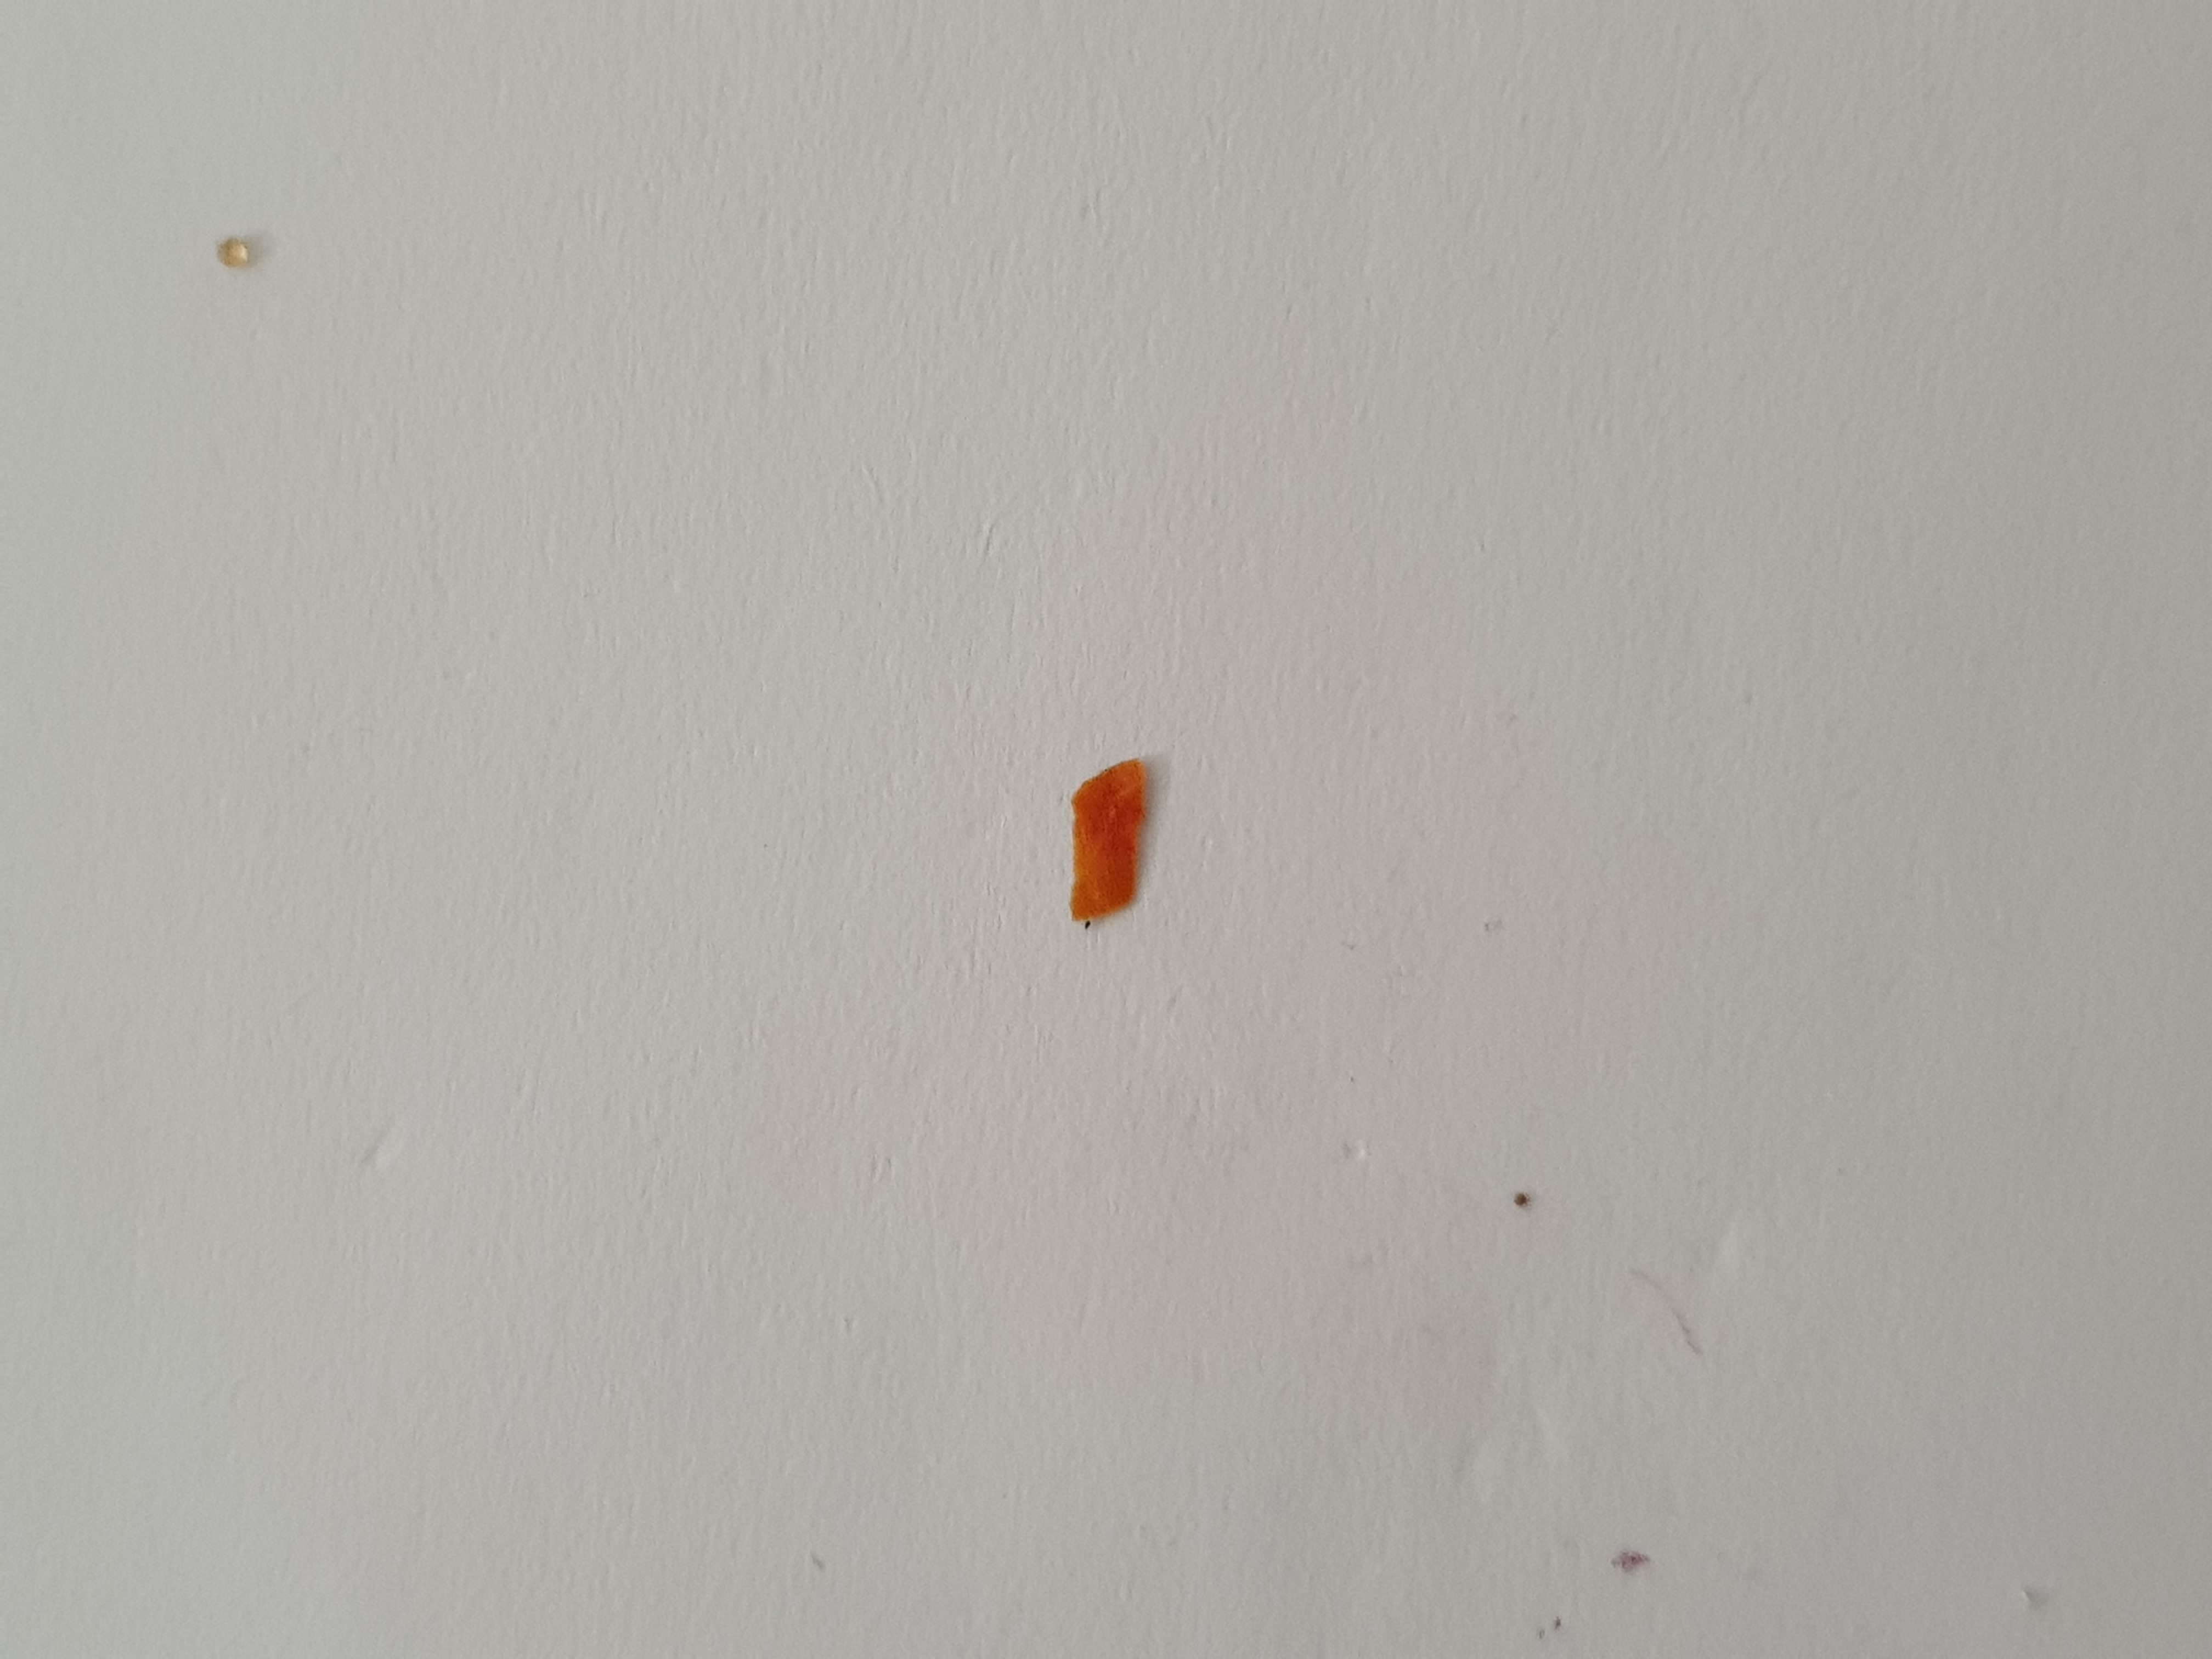plastic: (1045, 739, 1170, 953)
